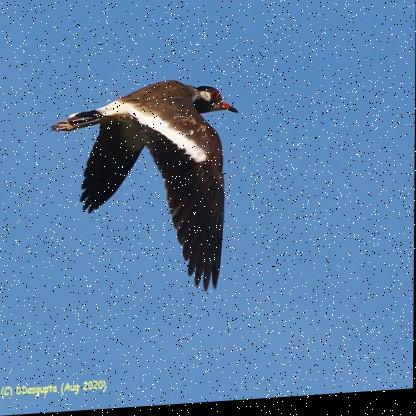Burung: (48, 78, 238, 302)
